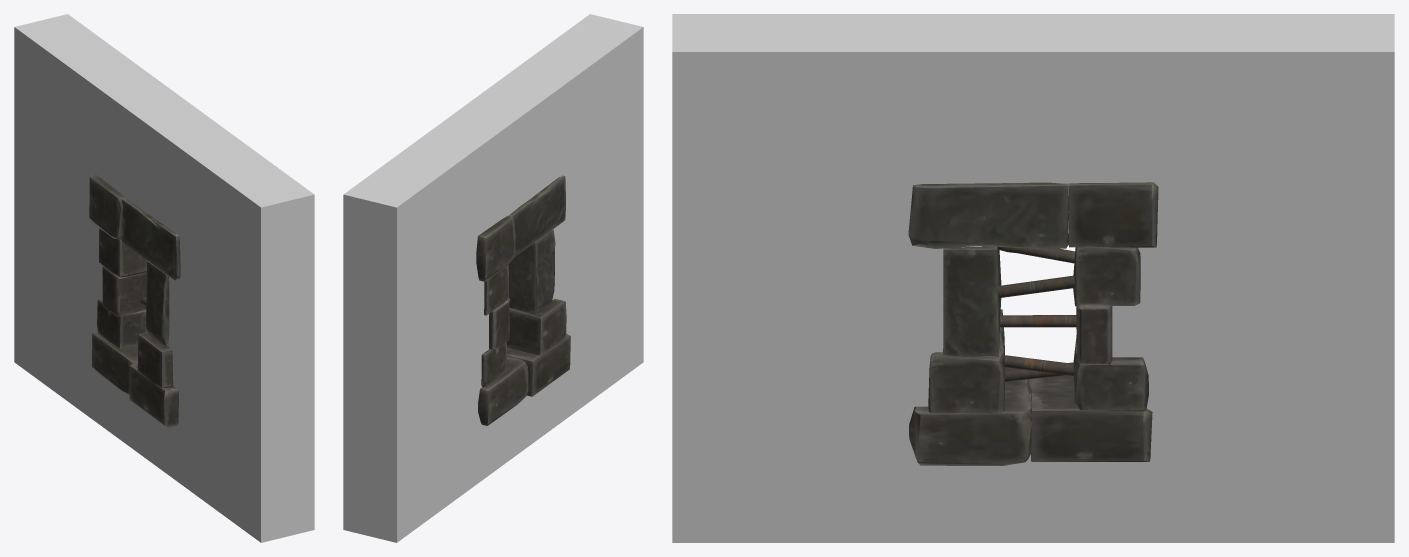
3 renders of one model, left to right at view 1: azimuth 30°, elevation 25°; view 2: azimuth 150°, elevation 25°; view 3: azimuth 270°, elevation 25°, orthographic. The views are drawn at different scales.
Parts seen in each view (by area): view 1: SM_Dowdun_Wall_8x6_01_LOD0; view 2: SM_Dowdun_Wall_8x6_01_LOD0; view 3: SM_Dowdun_Wall_8x6_01_LOD0.
Boxes of the visible parts, <box> form: SM_Dowdun_Wall_8x6_01_LOD0: <box>14,14,314,542</box>; SM_Dowdun_Wall_8x6_01_LOD0: <box>343,14,643,542</box>; SM_Dowdun_Wall_8x6_01_LOD0: <box>672,14,1394,542</box>.
Size of the model in its own units: 1.39 by 6 by 8.
Materials: 3 (2 with a texture image).
